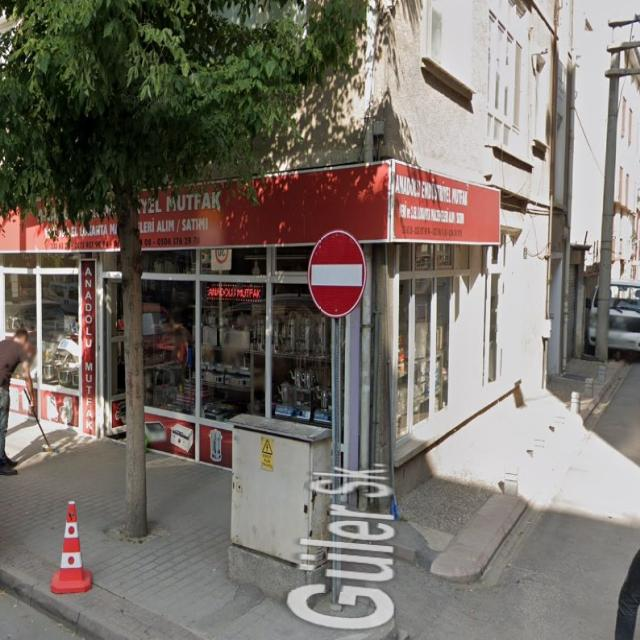girisyok: (309, 231, 366, 317)
